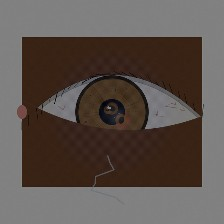foreign_body_visible: (93, 94, 130, 123)
